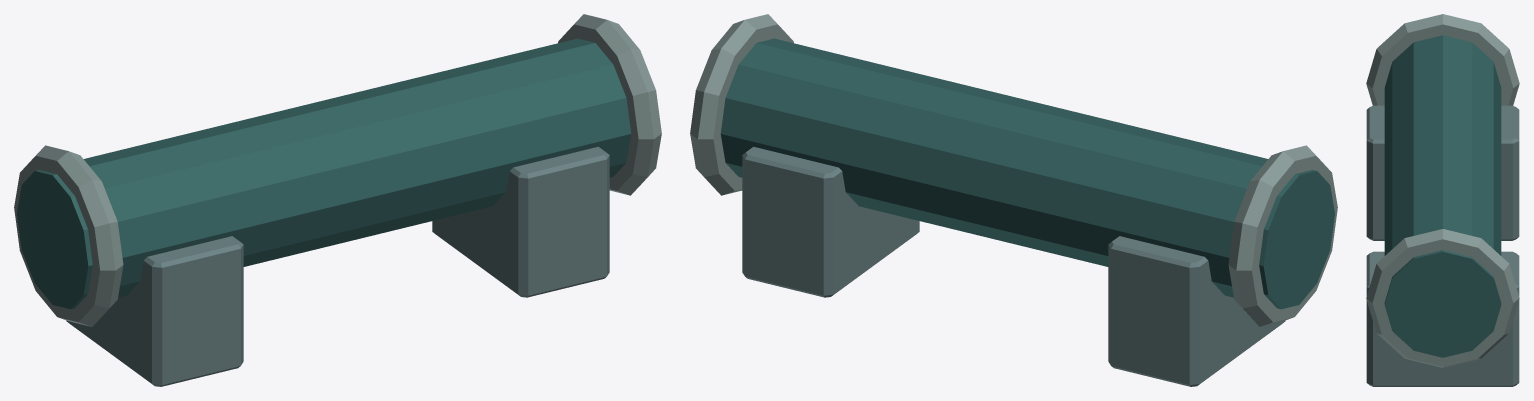
Rendered from supported-pipe.glb.
3 renders of one model, left to right at view 1: azimuth 30°, elevation 25°; view 2: azimuth 150°, elevation 25°; view 3: azimuth 270°, elevation 25°, orthographic. The views are drawn at different scales.
Parts seen in each view (by area): view 1: supported-pipe__body; view 2: supported-pipe__body; view 3: supported-pipe__body.
Boxes of the visible parts, x1,y1,x2,y2 form: supported-pipe__body: (14, 14, 661, 386); supported-pipe__body: (690, 14, 1337, 386); supported-pipe__body: (1366, 14, 1519, 386).
Size of the model in its own units: 1.06 by 0.381 by 0.302.
